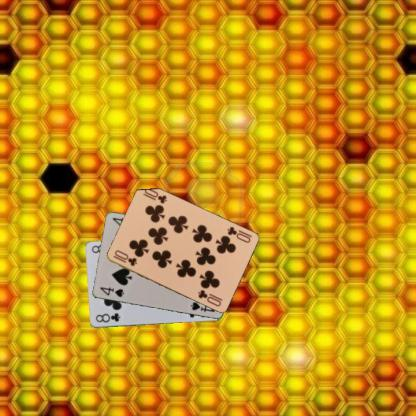10c: (110, 247, 138, 268), (224, 224, 252, 245)
4s: (97, 284, 125, 299)
8c: (93, 310, 121, 324)
